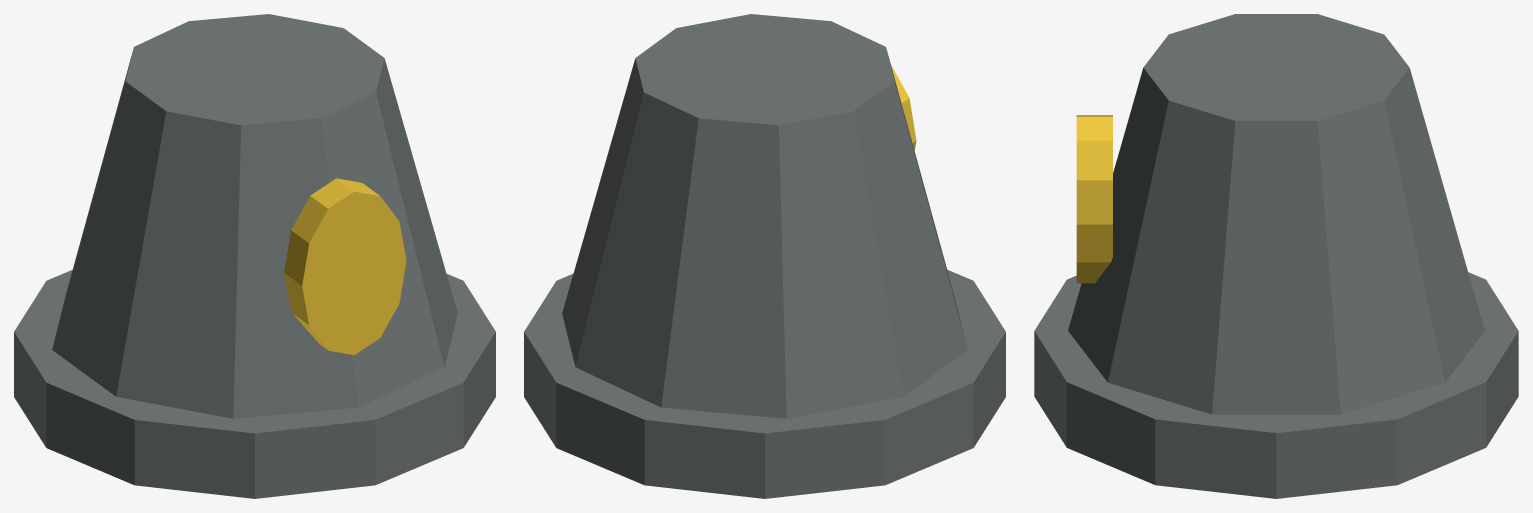
File: mascate_capacete.glb
3 renders of one model, left to right at view 1: azimuth 30°, elevation 25°; view 2: azimuth 150°, elevation 25°; view 3: azimuth 270°, elevation 25°, orthographic.
Visible parts, largest first — view 1: mascate_capacete; view 2: mascate_capacete; view 3: mascate_capacete.
Part boxes in pixels (x1,y1,x2,y2): mascate_capacete: [14, 14, 495, 498]; mascate_capacete: [524, 14, 1005, 498]; mascate_capacete: [1034, 14, 1518, 498].
Bounding box in the file's own units: 2 × 1.5 × 2.
